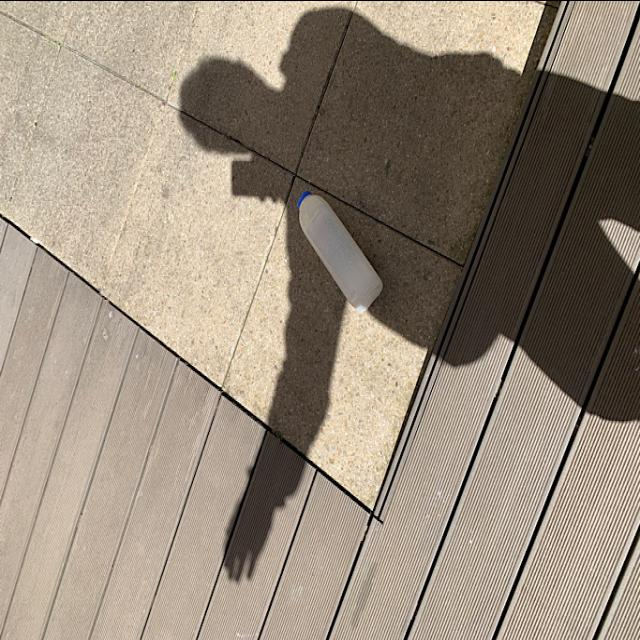litter: (296, 184, 381, 310)
